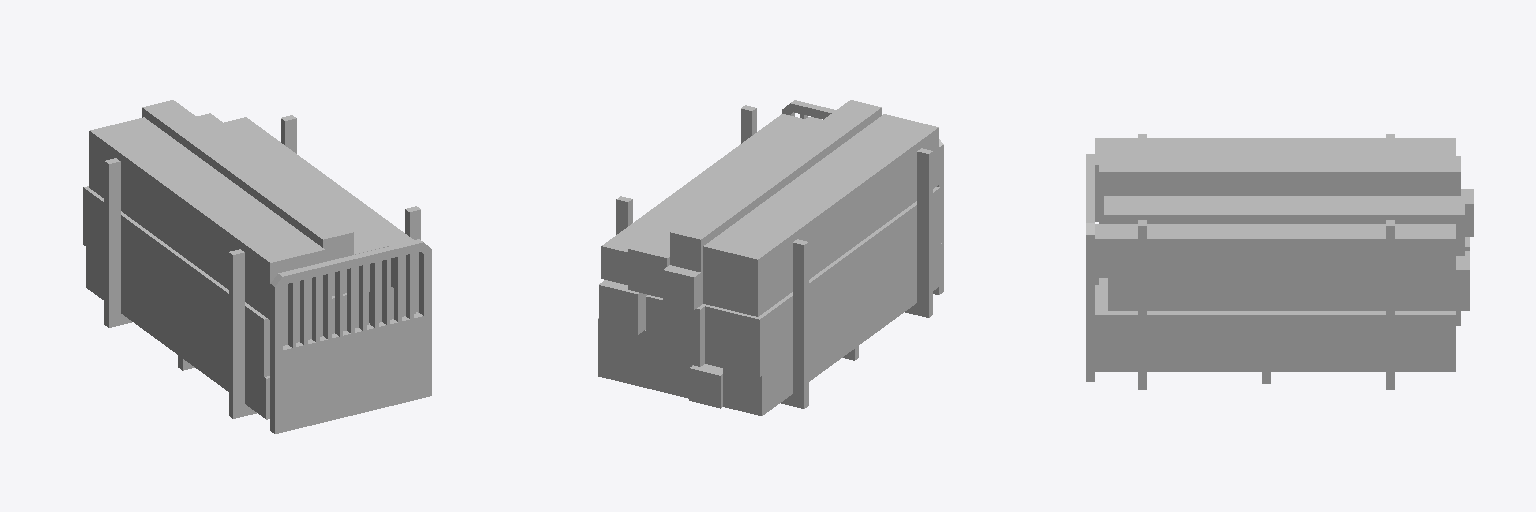
File: brigbedlogs.obj
3 renders of one model, left to right at view 1: azimuth 30°, elevation 25°; view 2: azimuth 150°, elevation 25°; view 3: azimuth 270°, elevation 25°, orthographic.
Parts seen in each view (by area): view 1: frame, log8, log5, log12, log1, log11, log10, log6; view 2: log8, log5, log12, frame, log1, log11, log10, log6, log4, log7, log9, log2 (+1 smaller); view 3: log4, log11, log12, log7, log10, log8, frame.
Boxes of the visible parts, box(x1,y1,x2,y2) form: frame: box(104, 115, 431, 433); log8: box(89, 117, 324, 319); log5: box(83, 186, 311, 376); log12: box(142, 100, 353, 261); log1: box(86, 247, 269, 419); log11: box(224, 117, 418, 287); log10: box(196, 113, 390, 294); log6: box(320, 292, 368, 336); log8: box(703, 114, 938, 316); log5: box(705, 187, 940, 376); log12: box(670, 100, 881, 271); frame: box(616, 100, 943, 408); log1: box(723, 243, 942, 415); log11: box(601, 114, 804, 284); log10: box(628, 117, 821, 297); log6: box(646, 295, 705, 366); log4: box(598, 318, 651, 388); log7: box(599, 280, 646, 334); log9: box(663, 265, 702, 309); log2: box(689, 364, 722, 408); log4: box(1095, 288, 1455, 371); log11: box(1095, 224, 1455, 271); log12: box(1099, 156, 1460, 203); log7: box(1108, 251, 1469, 310); log10: box(1104, 196, 1464, 255); log8: box(1095, 138, 1455, 221); frame: box(1086, 134, 1394, 389).
Size of the model in its own units: 3 by 2.69 by 5.38.